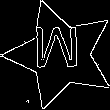M_S: (36, 29, 85, 80)
